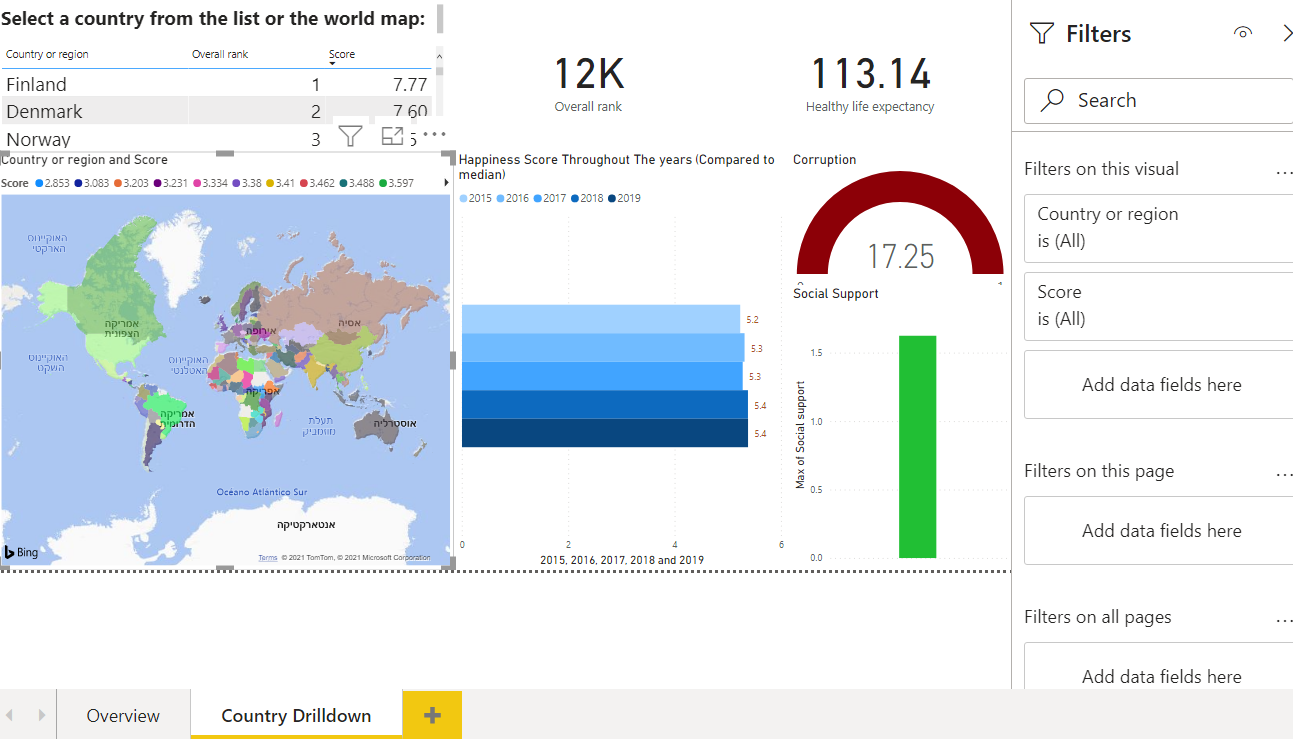

What the dashboard file says about the page in this screenshot:
{"tool":"powerbi","page":{"name":"Country Drilldown","canvas":[1280,720],"ordinal":1},"visuals":[{"type":"filledMap","fields":{"Category":["2019.Country or region"],"Series":["2019.Score"]},"box":[0,191.2,577.5,528.3],"z":0},{"type":"gauge","title":"Corruption","fields":{"Y":["Sum(2019.Perceptions of corruption)"],"MaxValue":["2019.Max Corrupption"],"MinValue":["2019.Min Corruption"]},"box":[999.8,191.2,280.2,191.2],"z":1000},{"type":"card","fields":{"Values":["Sum(2019.Healthy life expectancy)"]},"box":[924,0,356,191.2],"z":2000},{"type":"clusteredBarChart","title":"Happiness Score Throughout The years (Compared to median)","fields":{"Y":["Median(2015.Happiness Score)","Median(2016.Happiness Score)","Median(2017.Happiness.Score)","Median(2018.Score)","Median(2019.Score)"]},"box":[577.5,191.2,422.2,528.3],"z":3000},{"type":"columnChart","title":"Social Support","fields":{"Y":["Max(2019.Social support)"]},"box":[999.8,359.8,280.2,359.8],"z":4000},{"type":"card","fields":{"Values":["Sum(2019.Overall rank)"]},"box":[568,0,356,191.2],"z":4002},{"type":"tableEx","fields":{"Values":["2019.Country or region","Sum(2019.Overall rank)","Sum(2019.Score)"]},"box":[0,53,568,138.2],"z":4003},{"type":"textbox","box":[0,0,568,53],"z":4004}]}

Visuals, with their boxes on the page's 1280x720 design canvas (x1, y1, x2, y2). These are canvas units, not pixel positions in the 1293x739 screenshot, which may show the page scaled, cropped or inside an application window:
filledMap - 2019.Country or region x 2019.Score: box=[0, 191, 578, 720]
"Corruption" gauge: box=[1000, 191, 1280, 382]
card - Sum(2019.Healthy life expectancy): box=[924, 0, 1280, 191]
"Happiness Score Throughout The years (Compared to median)" clusteredBarChart: box=[578, 191, 1000, 720]
"Social Support" columnChart: box=[1000, 360, 1280, 720]
card - Sum(2019.Overall rank): box=[568, 0, 924, 191]
tableEx - 2019.Country or region x Sum(2019.Overall rank): box=[0, 53, 568, 191]
textbox: box=[0, 0, 568, 53]
